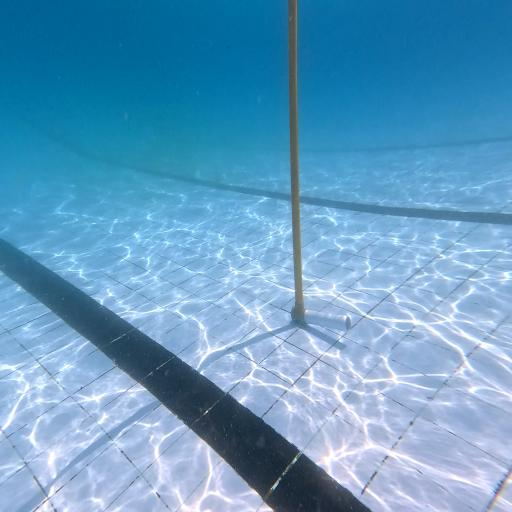pole_gate: (292, 3, 304, 319)
